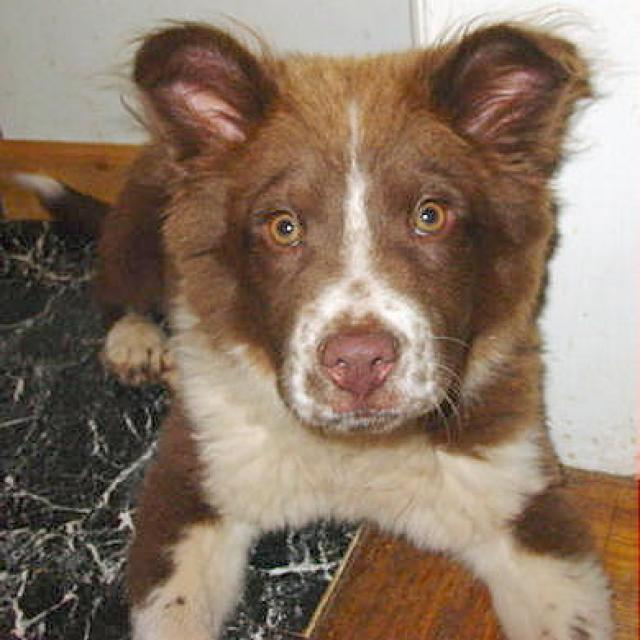Dogs: (1, 13, 618, 638)
